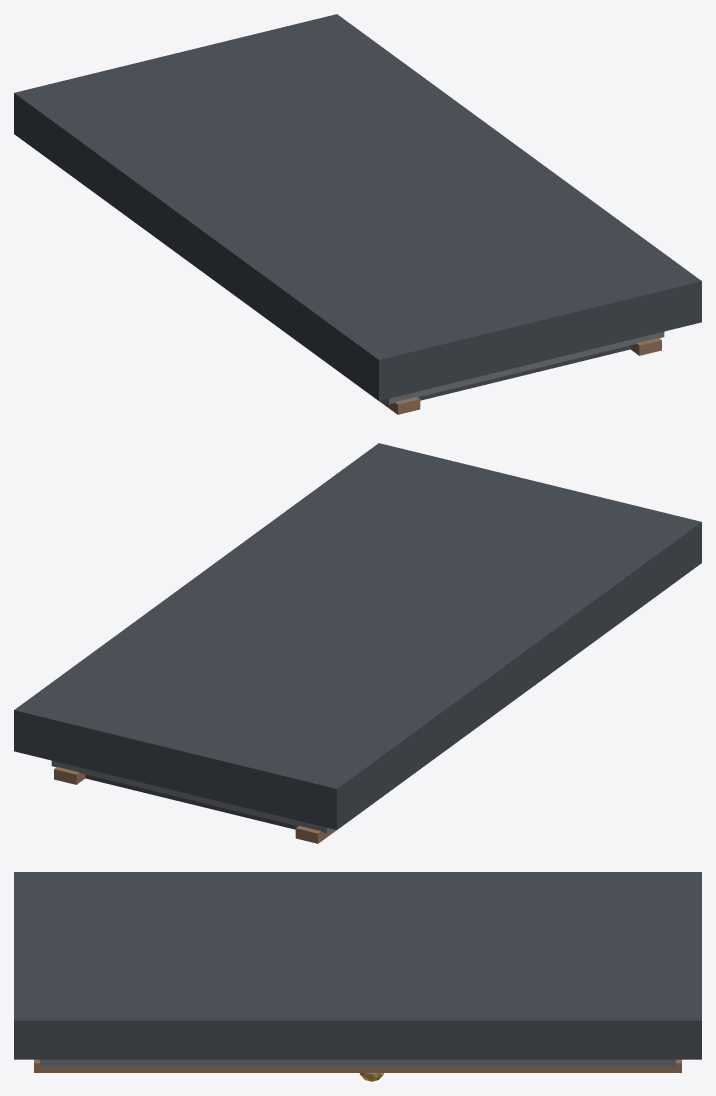
File: door-normal-steel.glb
The picture shows the model from 3 angles, top to bottom: view 1: azimuth 30°, elevation 25°; view 2: azimuth 150°, elevation 25°; view 3: azimuth 270°, elevation 25°; orthographic projection. The views are drawn at different scales.
Parts seen in each view (by area): view 1: world; view 2: world; view 3: world.
Boxes of the visible parts, bbox=[...] form: world: bbox=[14, 14, 701, 414]; world: bbox=[14, 443, 701, 843]; world: bbox=[14, 872, 701, 1081].
Size of the model in its own units: 1.15 by 0.335 by 2.25.
